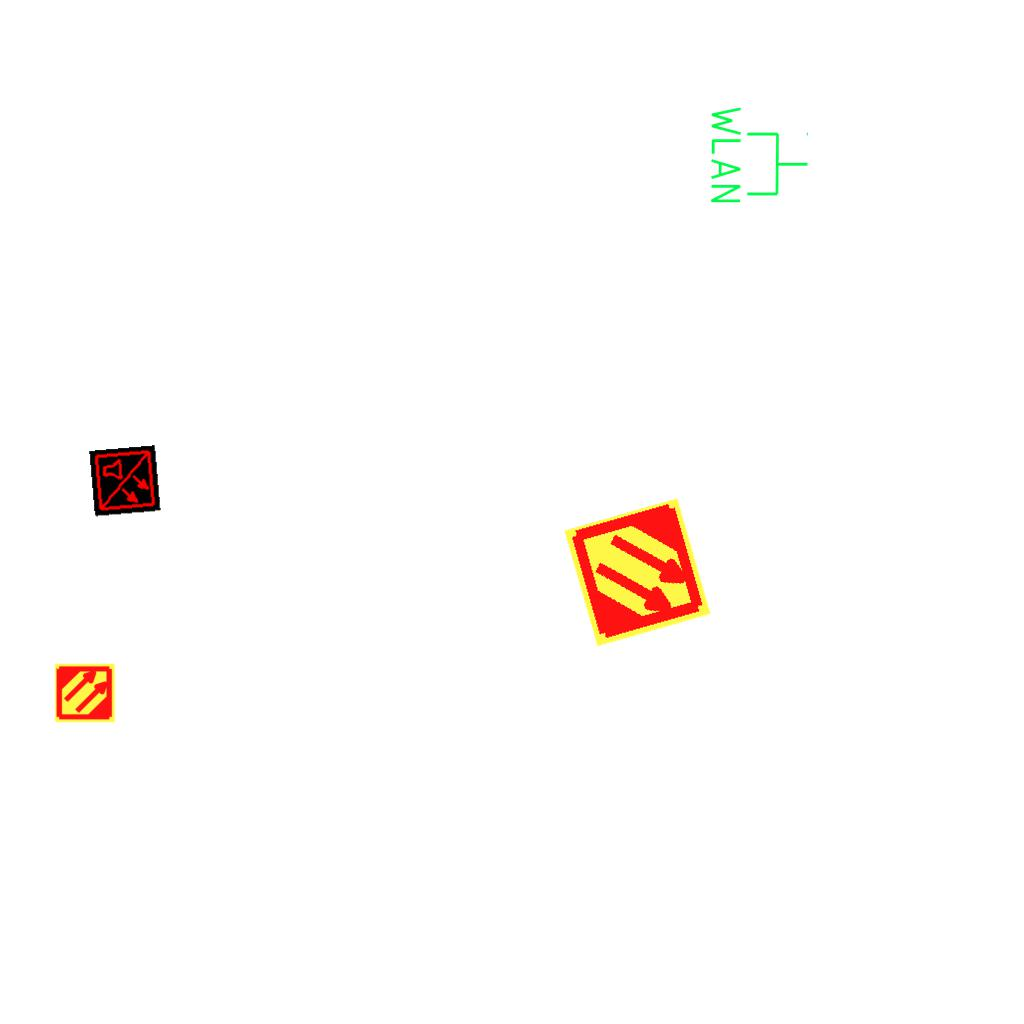ASR_Ansaugrauchmelder: (560, 495, 715, 650), (53, 661, 117, 725)
OKW_Multisensormelder_(Kombination_optischer_Rauch-Kahlenmonoxid_Waerme-Melder): (89, 445, 161, 517)
WLAN: (707, 102, 811, 207)
